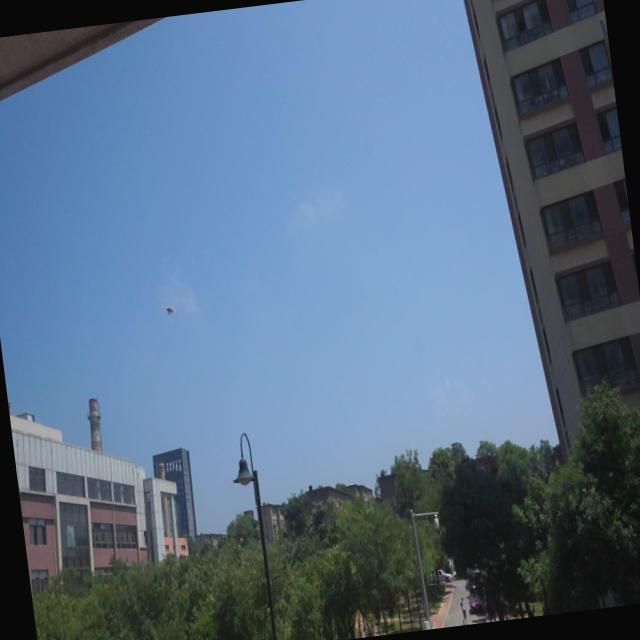drone: (161, 298, 176, 318)
